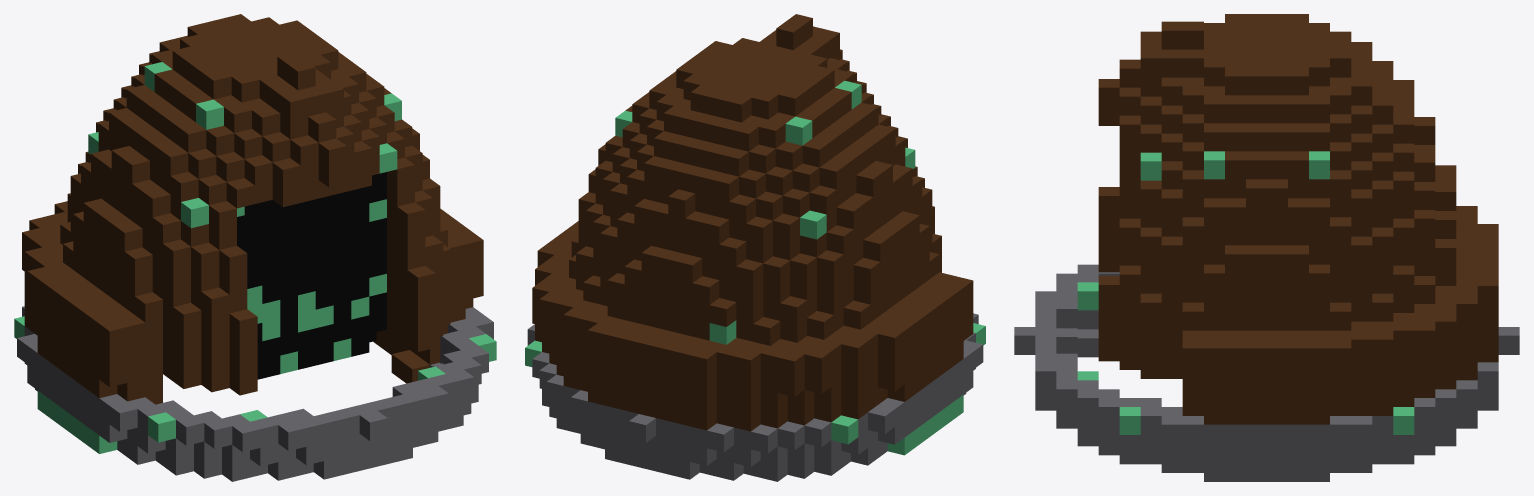
Rendered from mystic_common_helmet_lod1.glb.
3 renders of one model, left to right at view 1: azimuth 30°, elevation 25°; view 2: azimuth 150°, elevation 25°; view 3: azimuth 270°, elevation 25°, orthographic. The views are drawn at different scales.
Parts seen in each view (by area): view 1: mystic_common_helmet_lod1; view 2: mystic_common_helmet_lod1; view 3: mystic_common_helmet_lod1.
Boxes of the visible parts, x1,y1,x2,y2 form: mystic_common_helmet_lod1: (14, 14, 496, 481); mystic_common_helmet_lod1: (525, 14, 985, 481); mystic_common_helmet_lod1: (1014, 14, 1519, 481).
Size of the model in its own units: 0.504 by 0.456 by 0.576.
